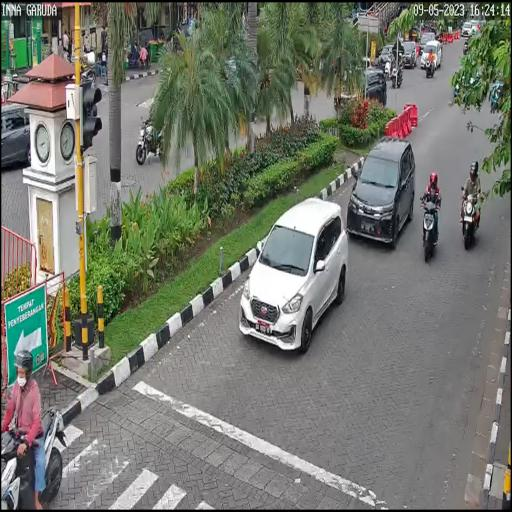mobil: (239, 194, 347, 360), (346, 134, 417, 250)
motor: (420, 183, 441, 264), (460, 179, 482, 254)
